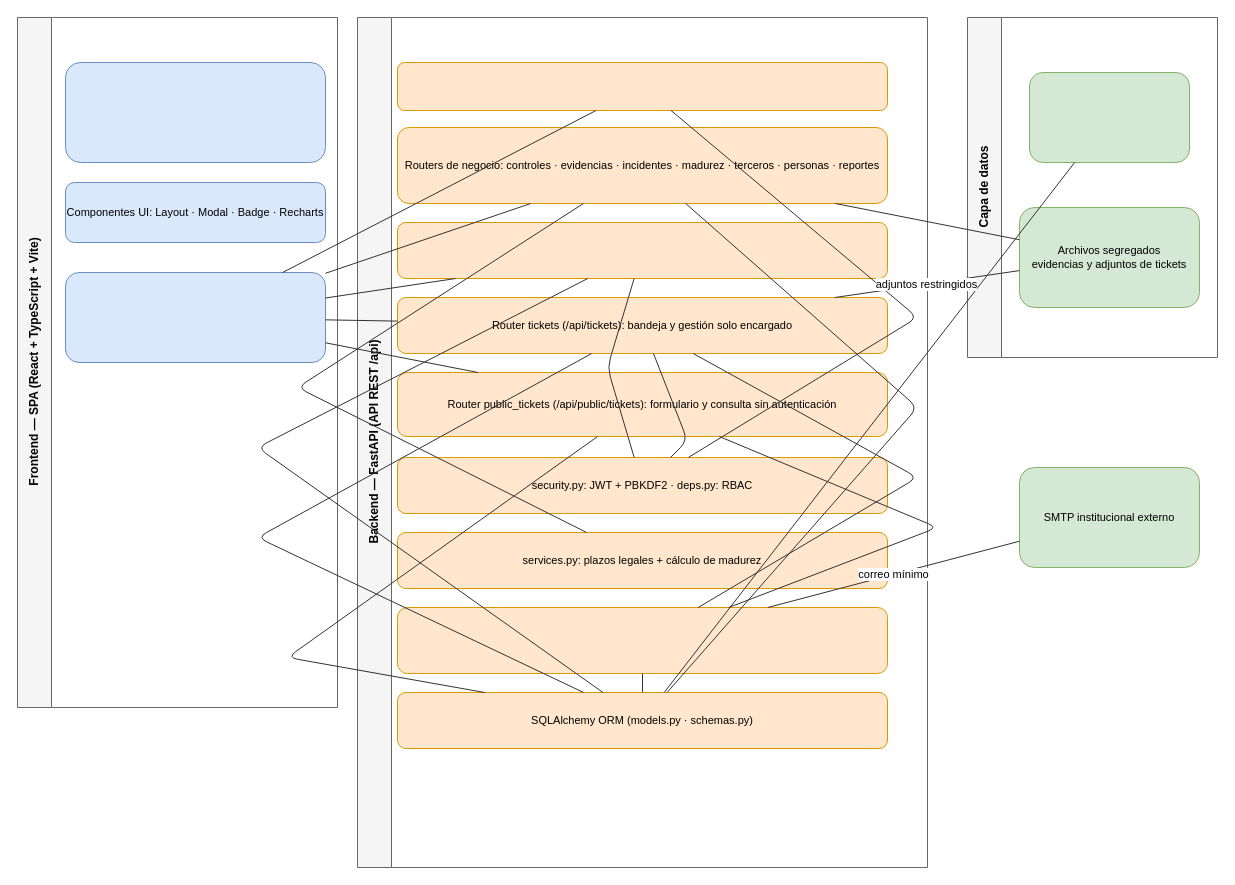
Image size: 1235x885. Some labels were removed from this diagram. The centre of each missing label's shape, as x and y in pixels:
"Base de datos PostgreSQL / SQLite" belongs at point 1109,117.
"Cliente HTTP api.ts: JWT en rutas privadas; formulario público sin token" belongs at point 195,317.
"Páginas: Login · Dashboard · módulos de negocio · Usuarios · Tickets · Reportar" belongs at point 195,112.
"Router auth (login / me)" belongs at point 642,86.
"Router usuarios (/api/usuarios): acceso solo admin_sistema" belongs at point 642,250.
"Servicio notificaciones: bandeja interna y correo SMTP; contenido mínimo" belongs at point 642,640.
